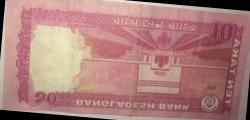10 taka: (7, 1, 246, 116)
